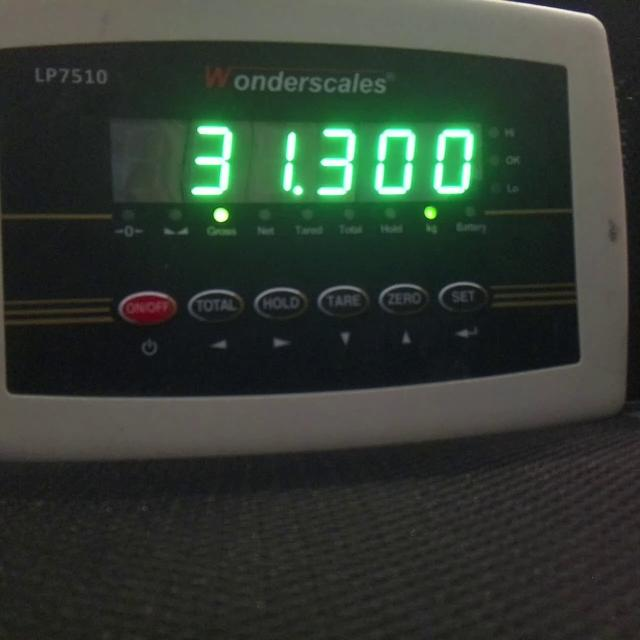.: (292, 185, 304, 196)
0: (375, 128, 416, 195), (433, 127, 474, 194)
1: (281, 123, 299, 202)
3: (190, 125, 234, 196), (316, 128, 356, 196)
